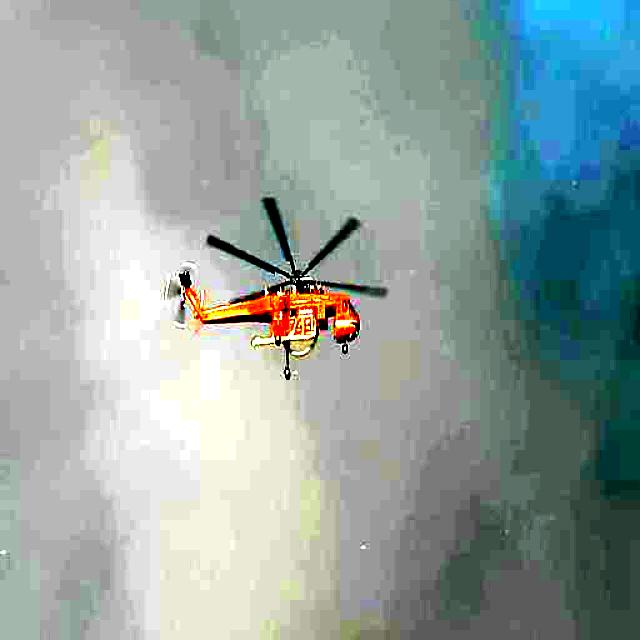drone: (160, 188, 385, 381)
